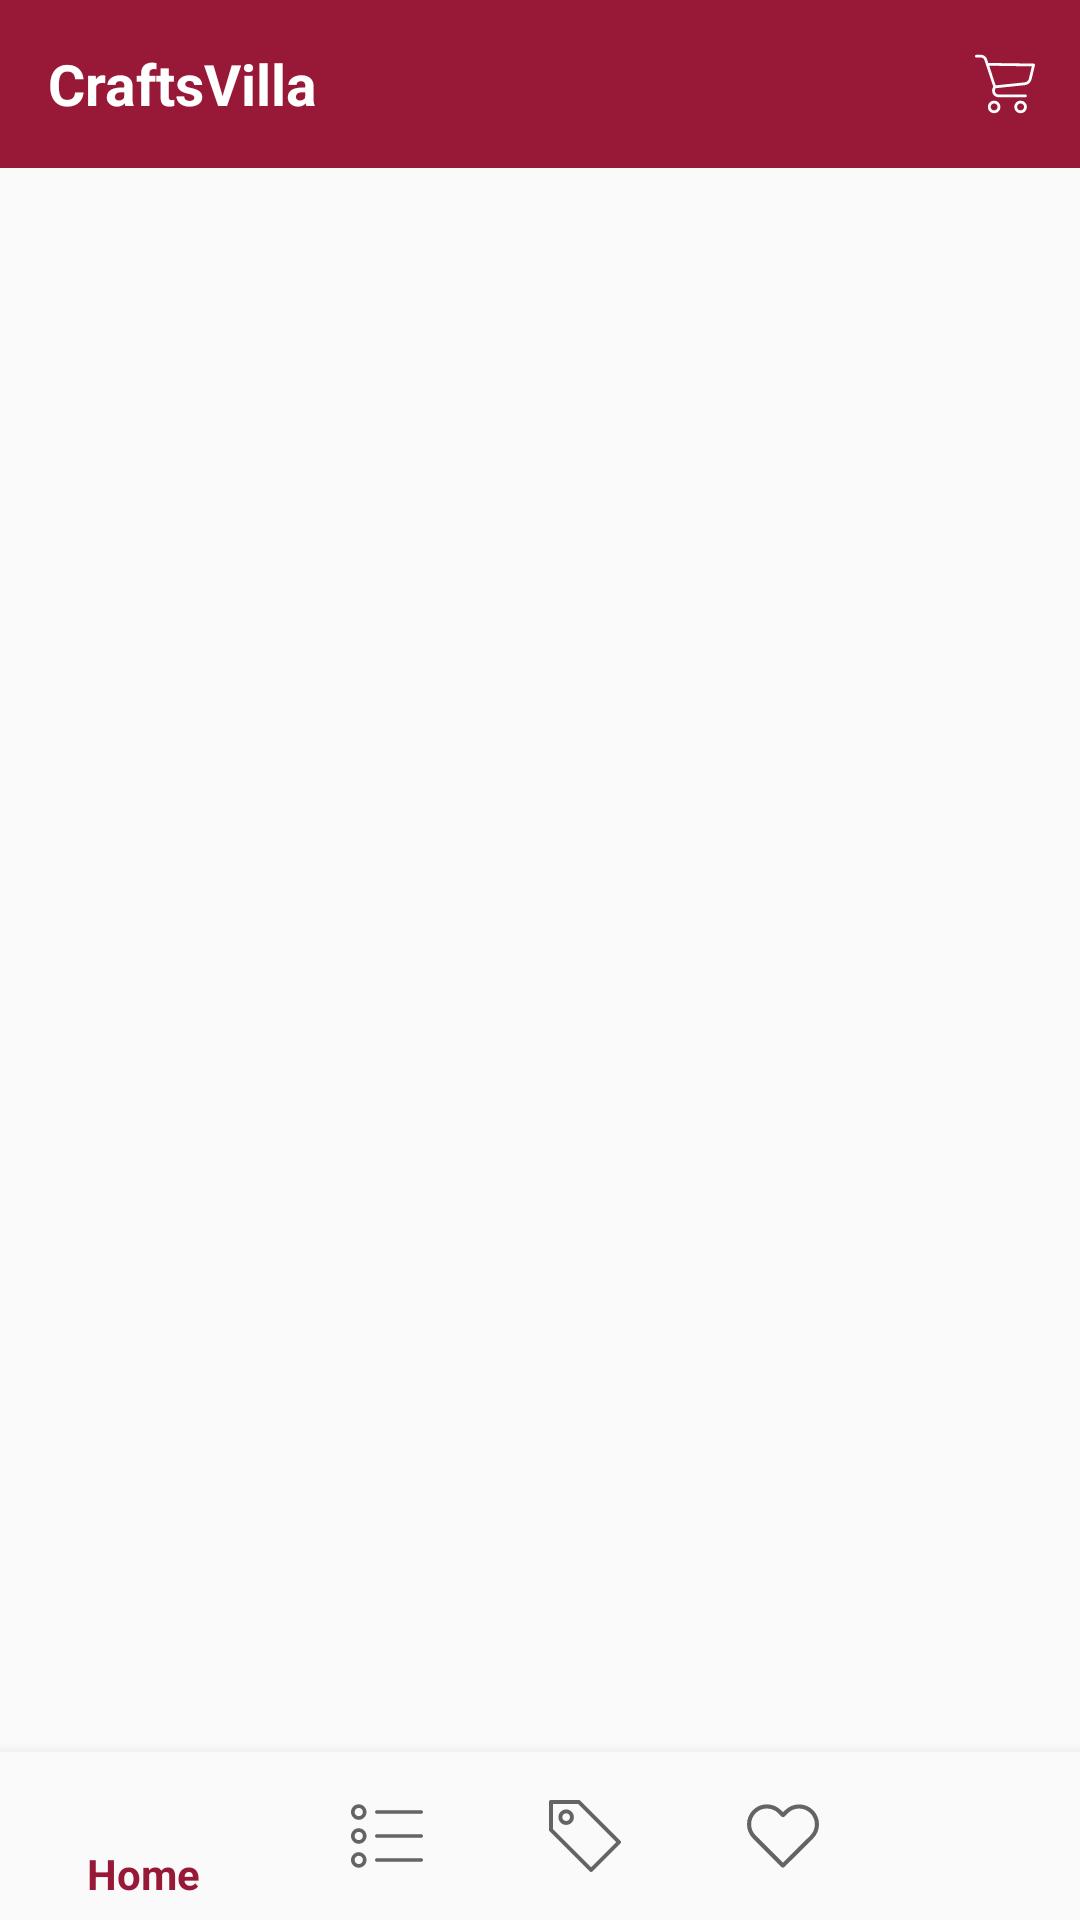

Locate icon controls on the screen. Image size 1080 x 1920, boxes as (x1, y1, x2, y2).
supermarket: (975, 54, 1035, 114)
